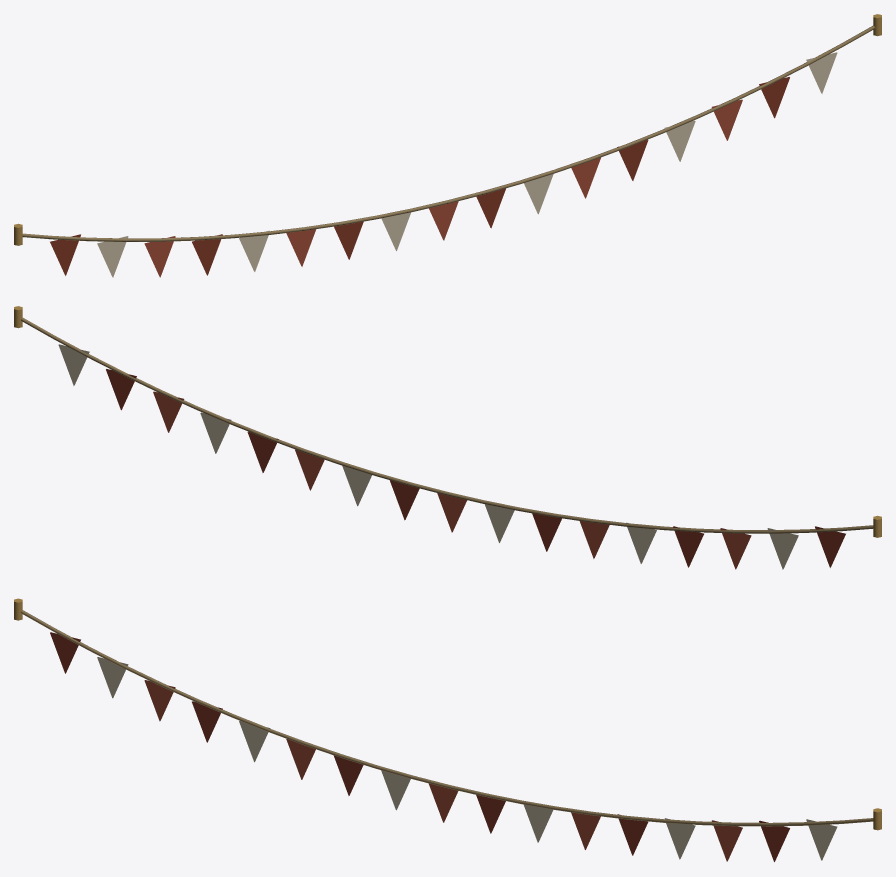
Rendered from bunting.glb.
The picture shows the model from 3 angles, top to bottom: view 1: azimuth 30°, elevation 25°; view 2: azimuth 150°, elevation 25°; view 3: azimuth 330°, elevation 25°; orthographic projection.
Visible parts, largest first — view 1: bunting; view 2: bunting; view 3: bunting.
Boxes of the visible parts, bbox=[...] form: bunting: bbox=[14, 14, 881, 277]; bunting: bbox=[14, 306, 881, 569]; bunting: bbox=[14, 598, 881, 861].
Bounding box in the file's own units: 10.1 × 1.32 × 0.0866.
